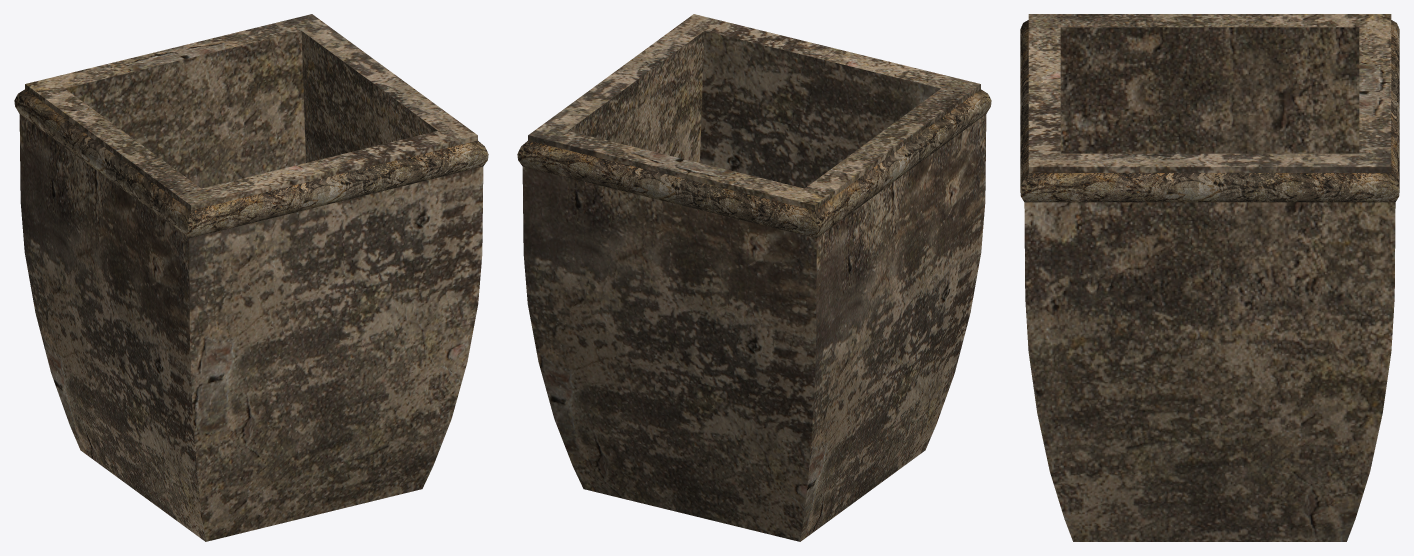
File: materials_5_pot_3.fbx
3 renders of one model, left to right at view 1: azimuth 30°, elevation 25°; view 2: azimuth 150°, elevation 25°; view 3: azimuth 270°, elevation 25°, orthographic. The views are drawn at different scales.
Visible parts, largest first — view 1: materials_5_pot_3; view 2: materials_5_pot_3; view 3: materials_5_pot_3.
Boxes of the visible parts, x1,y1,x2,y2 form: materials_5_pot_3: [14, 14, 488, 541]; materials_5_pot_3: [517, 14, 991, 541]; materials_5_pot_3: [1020, 14, 1399, 541].
Bounding box in the file's own units: 25.73 × 29.44 × 25.73.
